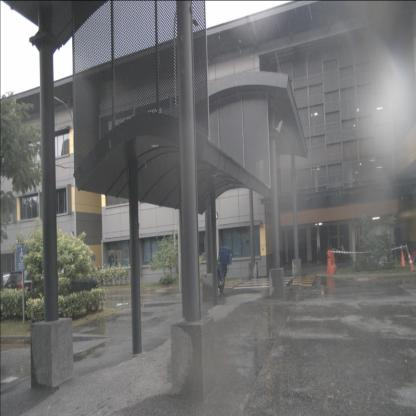barrier: (326, 249, 337, 274)
cone: (408, 252, 416, 272), (401, 250, 406, 268)
